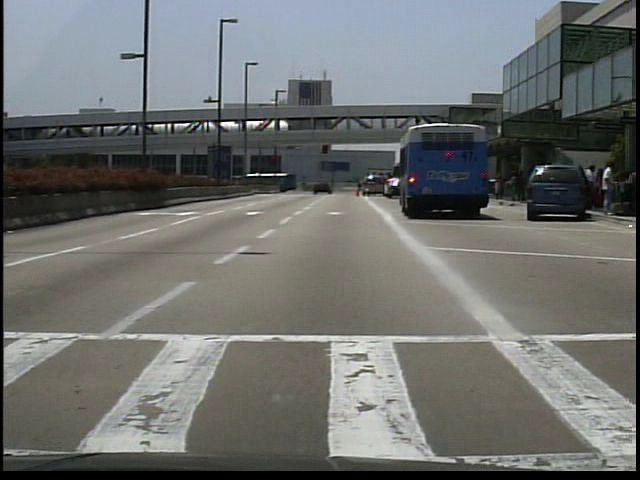person: (597, 162, 618, 218), (584, 164, 600, 211), (595, 166, 611, 213), (516, 168, 528, 204), (315, 182, 324, 197)
